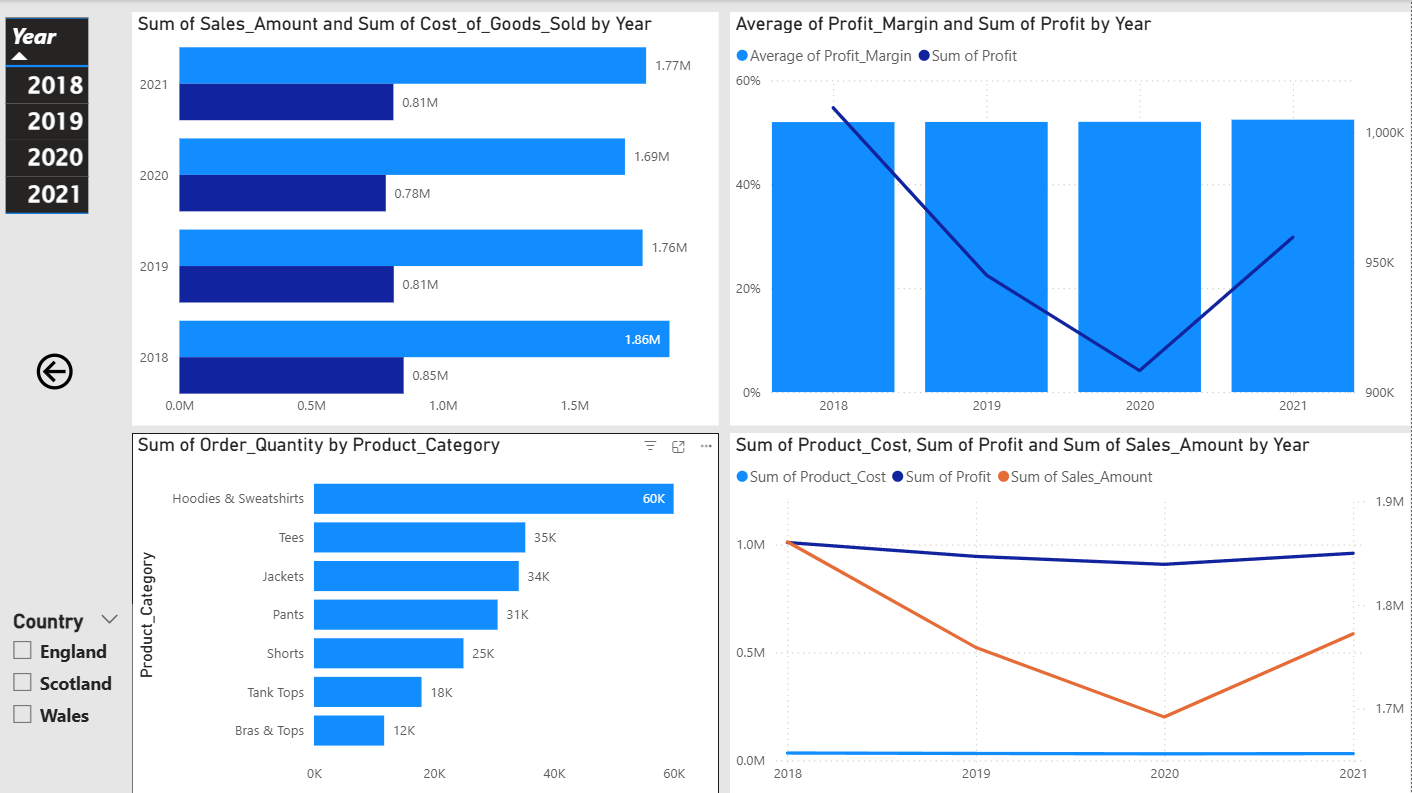

Layout of this report page (visuals, bound fields, positions):
{"tool":"powerbi","page":{"name":"Dash 2","canvas":[1280,720],"ordinal":2},"visuals":[{"type":"clusteredBarChart","fields":{"Y":["Sum(Orders.Sales_Amount)","Sum(Orders.Cost_of_Goods_Sold)"],"Category":["Orders.Order_Date.Variation.Date Hierarchy.Year","Orders.Order_Date.Variation.Date Hierarchy.Quarter","Orders.Order_Date.Variation.Date Hierarchy.Month","Orders.Order_Date.Variation.Date Hierarchy.Day"]},"box":[120.6,10.6,532,375.1],"z":0},{"type":"barChart","fields":{"Y":["Sum(Orders. Order_Quantity )"],"Category":["Products.Product_Category"]},"box":[120.6,392.8,532,327.2],"z":1000},{"type":"tableEx","fields":{"Values":["Orders.Order_Date.Variation.Date Hierarchy.Year"]},"box":[0,10.6,89.6,226.1],"z":2000},{"type":"slicer","fields":{"Values":["Retailers.Country"]},"box":[0,548,120.6,172],"z":3000},{"type":"lineChart","fields":{"Category":["Orders.Order_Date.Variation.Date Hierarchy.Year","Orders.Order_Date.Variation.Date Hierarchy.Month"],"Y":["Sum(Orders.Product_Cost)","Sum(Orders.Profit)"],"Y2":["Sum(Orders.Sales_Amount)"]},"box":[663.3,392.8,617.1,327.2],"z":4000},{"type":"lineClusteredColumnComboChart","fields":{"Category":["Orders.Order_Date.Variation.Date Hierarchy.Year","Orders.Order_Date.Variation.Date Hierarchy.Quarter"],"Y":["Avg(Orders.Profit_Margin)"],"Y2":["Sum(Orders.Profit)"]},"box":[663,11,617,375],"z":5000},{"type":"actionButton","box":[0,307.7,100.2,55.9],"z":6000}]}

Visuals, with their boxes in screenshot pixels (x1, y1, x2, y2), scaled from the page's 1280x720 canvas onto the 1412x793 screenshot:
clusteredBarChart - Sum(Orders.Sales_Amount) x Sum(Orders.Cost_of_Goods_Sold): bbox=(133, 12, 720, 425)
barChart - Sum(Orders. Order_Quantity ) x Products.Product_Category: bbox=(133, 433, 720, 792)
tableEx - Orders.Order_Date.Variation.Date Hierarchy.Year: bbox=(0, 12, 99, 261)
slicer - Retailers.Country: bbox=(0, 604, 133, 792)
lineChart - Orders.Order_Date.Variation.Date Hierarchy.Year x Orders.Order_Date.Variation.Date Hierarchy.Month: bbox=(732, 433, 1411, 792)
lineClusteredColumnComboChart - Orders.Order_Date.Variation.Date Hierarchy.Year x Orders.Order_Date.Variation.Date Hierarchy.Quarter: bbox=(731, 12, 1411, 425)
actionButton: bbox=(0, 339, 111, 400)
